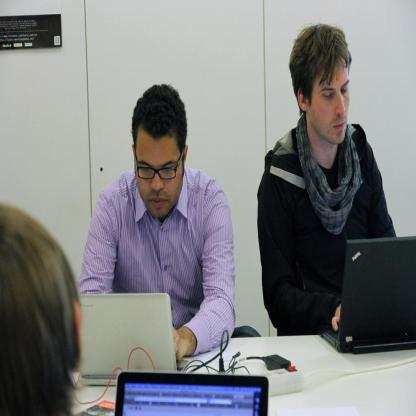board: (321, 236, 416, 354), (75, 292, 188, 387), (116, 372, 268, 416)
